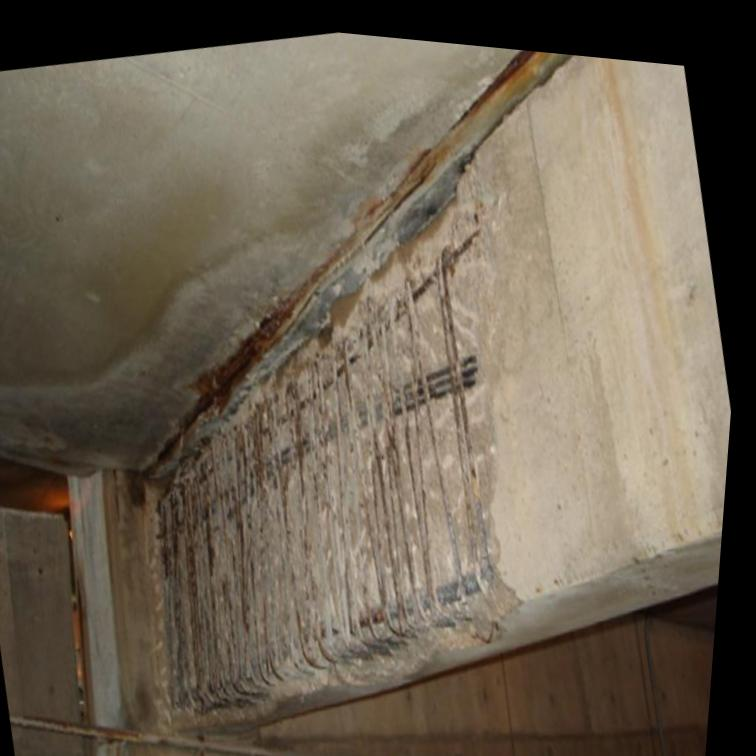damage: (155, 157, 527, 728)
